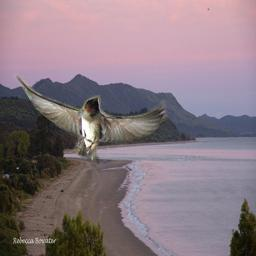Swallow: (13, 73, 169, 166)
